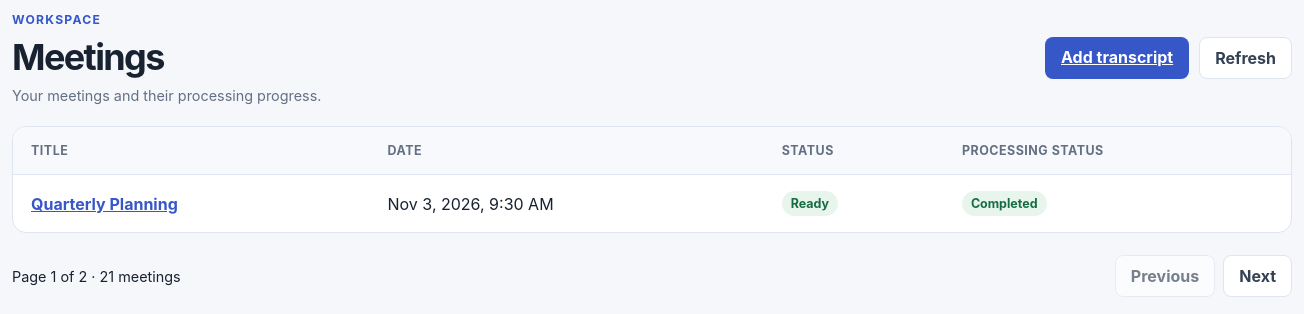
Scenario: MeetingsPage › requests the next page when pagination is used
Click the button "Next": (1258, 276) [1223,255,1292,297]
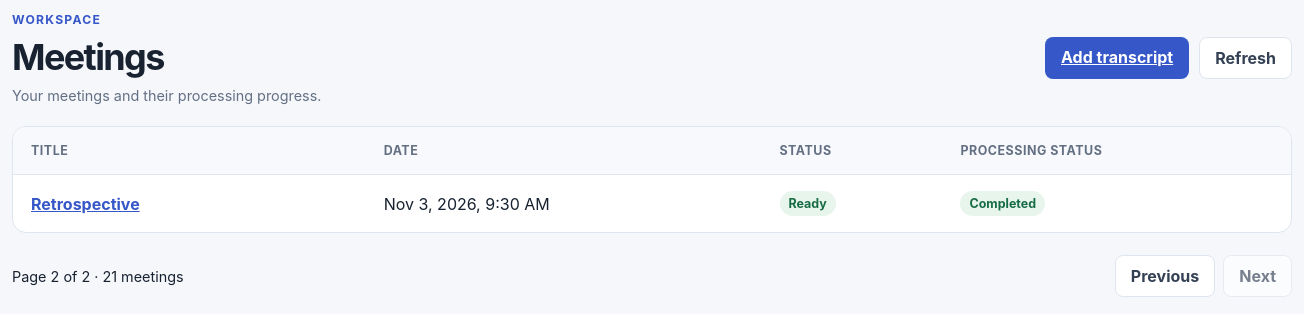
expect the link "Retrospective" is shown: met, box [31,194,140,214]
